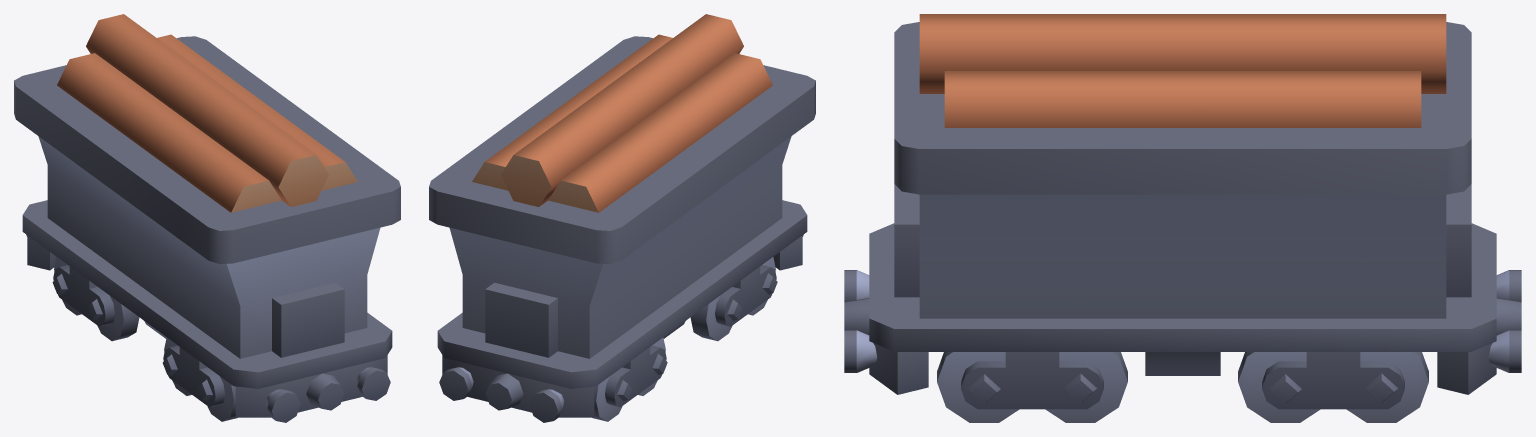
File: train-carriage-wood.glb
3 renders of one model, left to right at view 1: azimuth 30°, elevation 25°; view 2: azimuth 150°, elevation 25°; view 3: azimuth 270°, elevation 25°, orthographic. The views are drawn at different scales.
Visible parts, largest first — view 1: train-carriage-wood, cargo, wheels-back, wheels-front; view 2: train-carriage-wood, cargo, wheels-front, wheels-back; view 3: train-carriage-wood, cargo, wheels-front, wheels-back.
Boxes of the visible parts, bbox=[...] form: train-carriage-wood: bbox=[14, 36, 400, 422]; cargo: bbox=[57, 14, 357, 212]; wheels-back: bbox=[52, 257, 139, 341]; wheels-front: bbox=[162, 337, 237, 421]; train-carriage-wood: bbox=[429, 36, 815, 422]; cargo: bbox=[472, 14, 772, 212]; wheels-front: bbox=[690, 257, 777, 341]; wheels-back: bbox=[592, 337, 667, 421]; train-carriage-wood: bbox=[844, 22, 1521, 394]; cargo: bbox=[919, 14, 1446, 127]; wheels-front: bbox=[937, 352, 1127, 422]; wheels-back: bbox=[1238, 352, 1428, 422].
Size of the model in its own units: 1.2 by 1.57 by 2.7.
